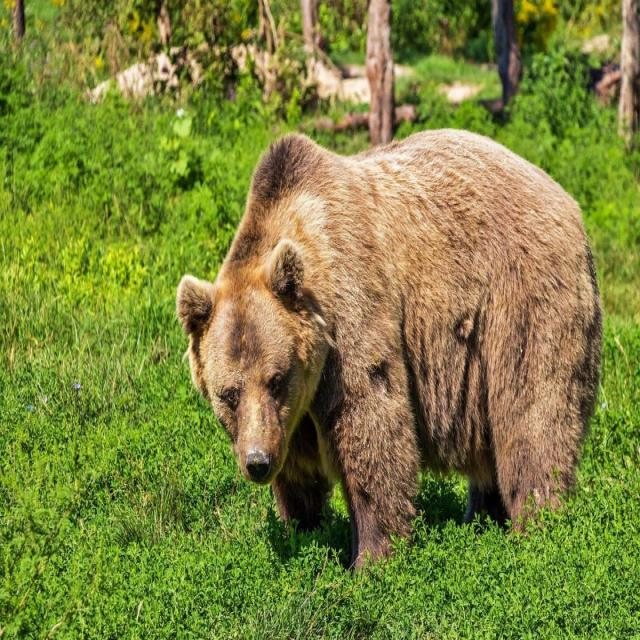Bear: (175, 129, 605, 572)
